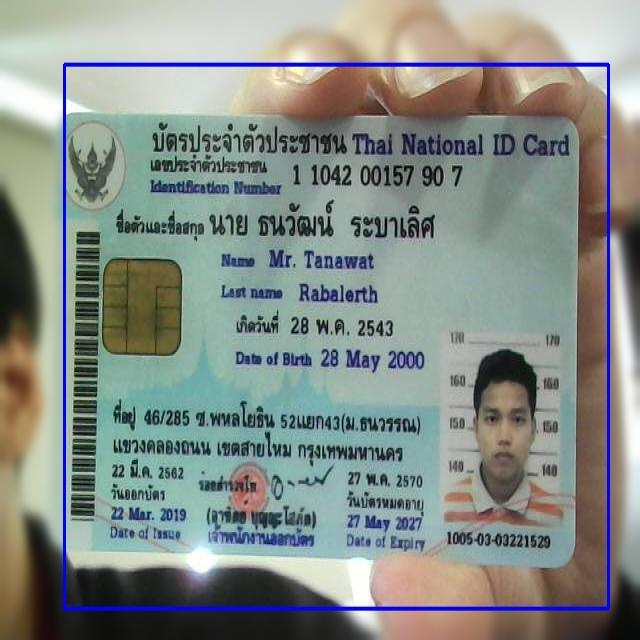Address_th: (109, 394, 433, 470)
Date_of_Birth: (317, 341, 428, 380)
Date_of_Expiry: (344, 510, 424, 534)
Date_of_Issue: (108, 505, 193, 525)
First_Name: (263, 242, 380, 274)
ID_Number: (287, 158, 467, 193)
Image: (443, 329, 565, 528)
Last_Name: (294, 278, 384, 309)
Thai_Name: (206, 195, 448, 246)
